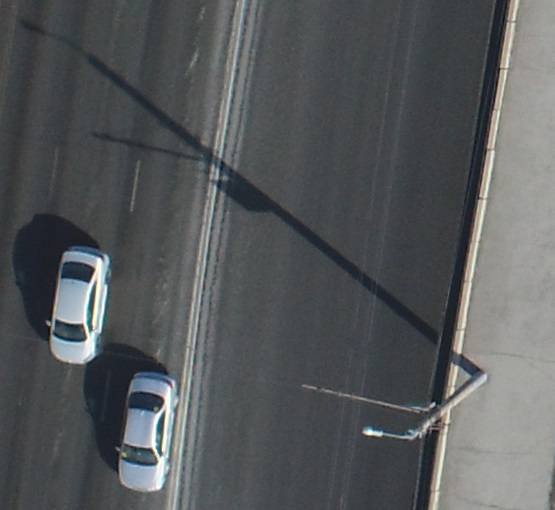opora: (360, 333, 487, 444)
